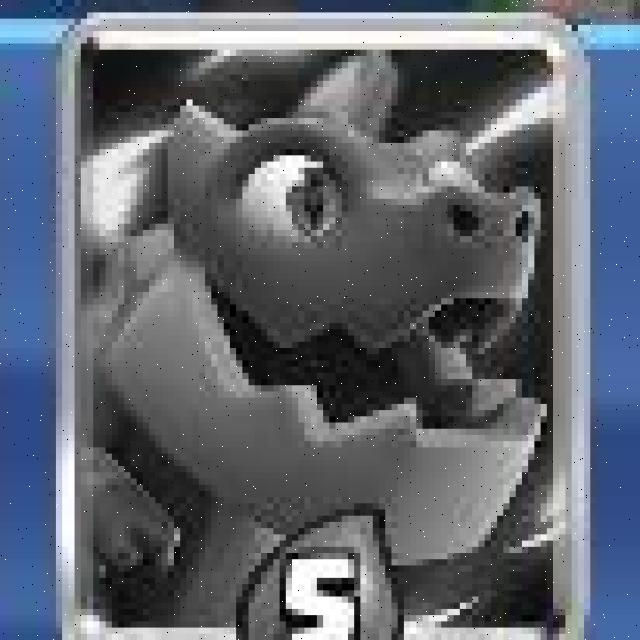Electro_Dragon: (50, 10, 593, 640)
